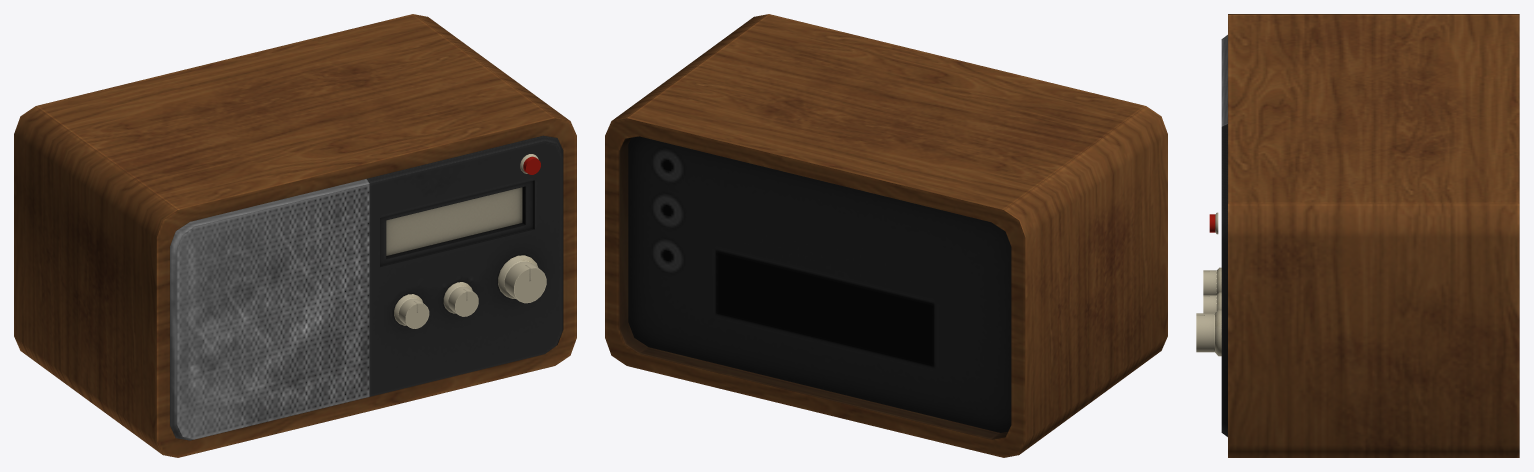
Rendered from SM_Clue_Radio.fbx.
The picture shows the model from 3 angles, left to right: view 1: azimuth 30°, elevation 25°; view 2: azimuth 150°, elevation 25°; view 3: azimuth 270°, elevation 25°; orthographic projection. The views are drawn at different scales.
Parts seen in each view (by area): view 1: SM_Clue_Radio; view 2: SM_Clue_Radio; view 3: SM_Clue_Radio.
Boxes of the visible parts, bbox=[...] form: SM_Clue_Radio: bbox=[14, 14, 576, 457]; SM_Clue_Radio: bbox=[605, 14, 1167, 457]; SM_Clue_Radio: bbox=[1196, 14, 1519, 457].
Size of the model in its own units: 39.66 by 22.33 by 25.8.
1 material, 1 textured.
